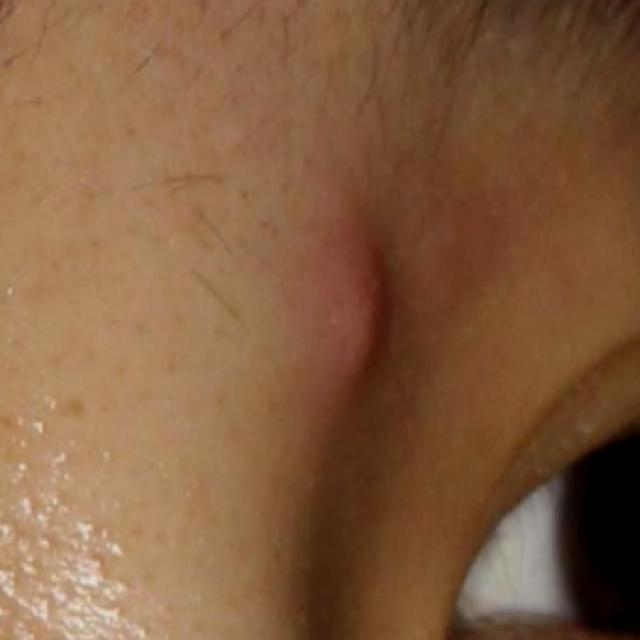nodule: (314, 222, 386, 388)
